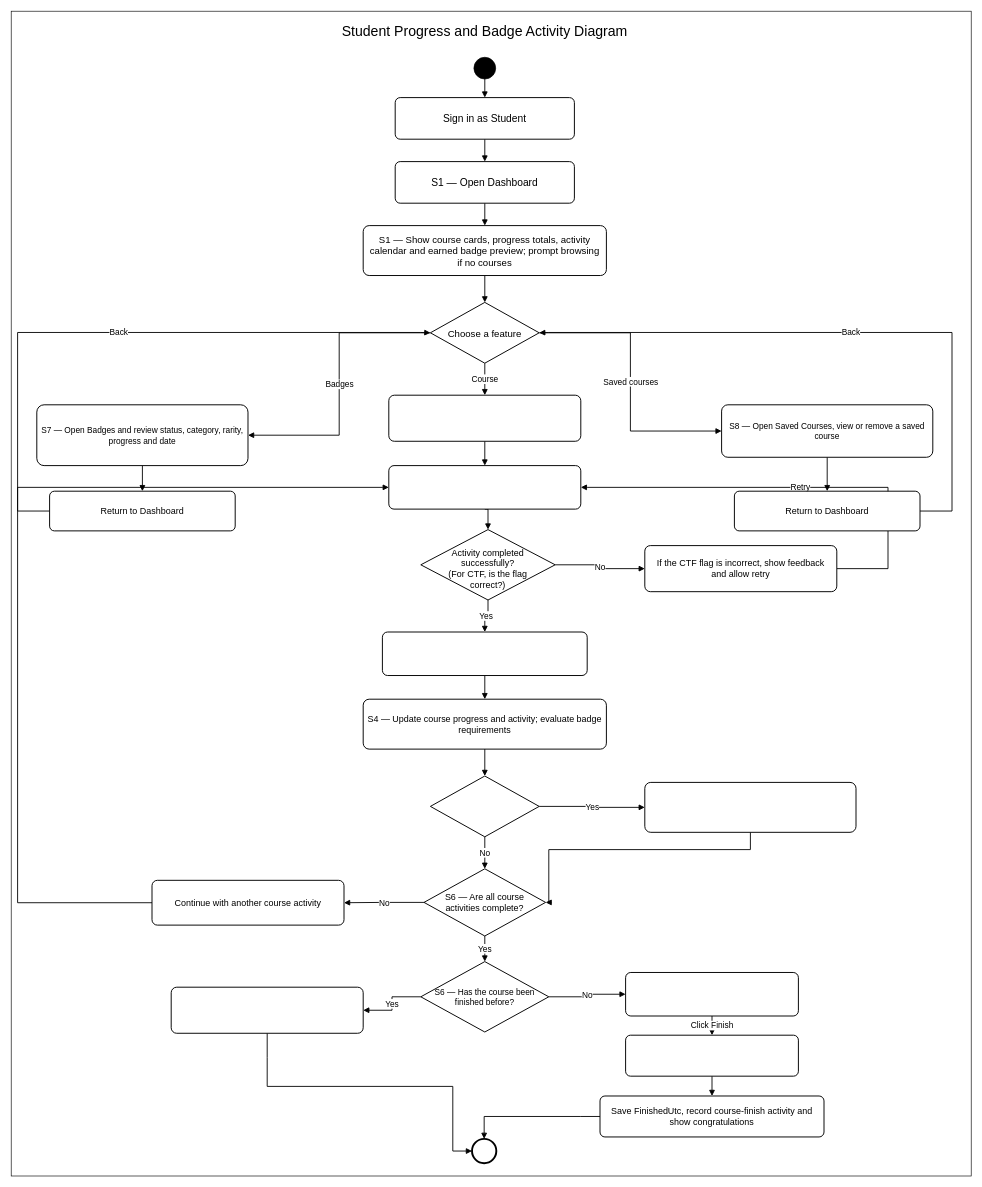
Some shapes in this 982 by 1187 pixel diagram are drawn without their labels. The centre of each missing label's shape, as x and y in pixels:
"Keep Finish hidden during later course reviews" goes at point 266,1009.
"S2 — Open an enrolled course and resume learning" goes at point 484,417.
"S2 — Select a lesson, lab or CTF challenge" goes at point 484,487.
"S3 — Record the completed item and timestamp" goes at point 484,653.
"S5 — New badge earned?" goes at point 484,806.
"S5 — Save badge award date, send notification and show popup" goes at point 750,807.
"Show the one-time Finish Course button on the learning page" goes at point 712,994.
"Student clicks Finish" goes at point 712,1055.
